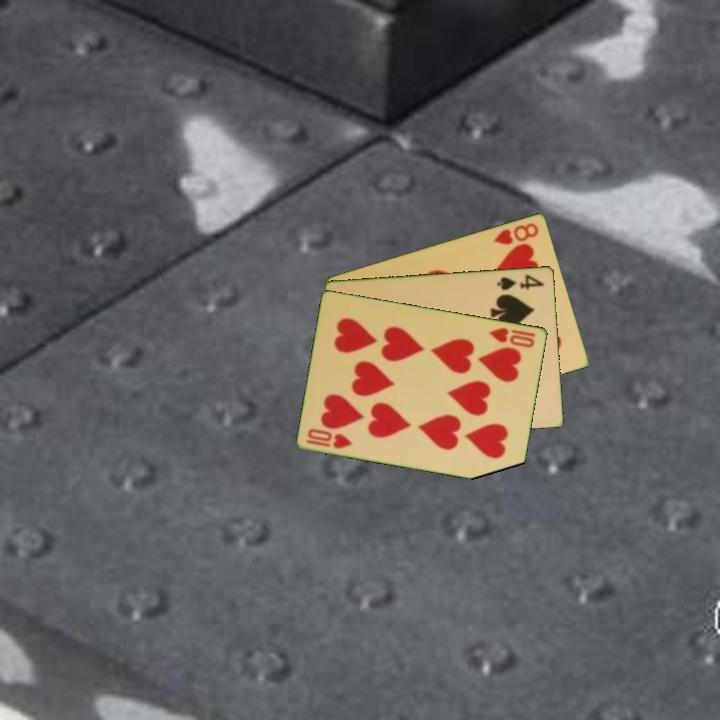10h: (486, 324, 538, 350), (303, 425, 355, 451)
4s: (494, 271, 547, 293)
8h: (490, 219, 541, 247)
